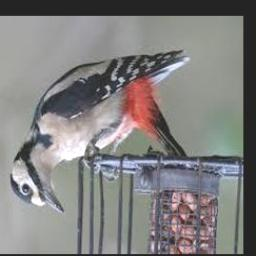Woodpecker: (9, 49, 190, 213)
